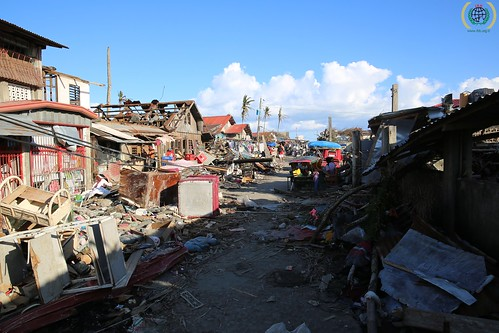building: (107, 98, 210, 156), (1, 24, 51, 104), (47, 69, 94, 103)
sky: (67, 1, 493, 96)
trash: (1, 141, 281, 333), (315, 109, 499, 333)
